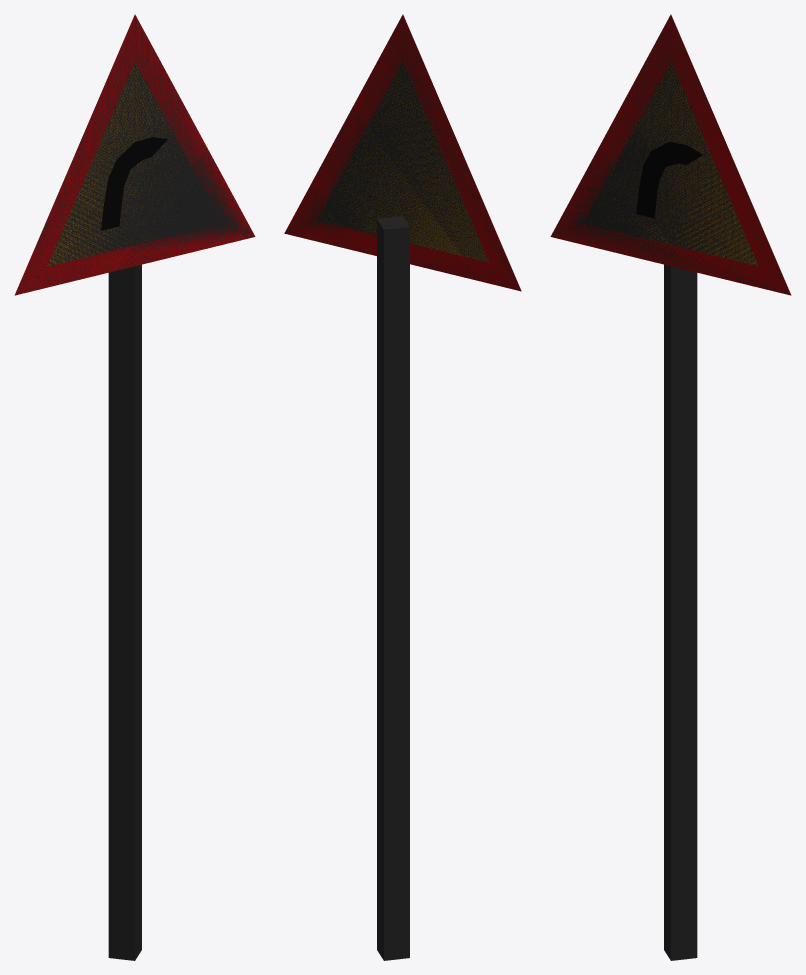
Rendered from sharprightturn.obj.
The picture shows the model from 3 angles, left to right: view 1: azimuth 30°, elevation 25°; view 2: azimuth 150°, elevation 25°; view 3: azimuth 330°, elevation 25°; orthographic projection.
Parts seen in each view (by area): view 1: Cylinder.000; view 2: Cylinder.000; view 3: Cylinder.000.
Boxes of the visible parts, x1,y1,x2,y2 form: Cylinder.000: (14,14,255,960); Cylinder.000: (284,14,521,960); Cylinder.000: (550,14,791,960).
Size of the model in its own units: 0.8584 by 3.22 by 0.1218.
